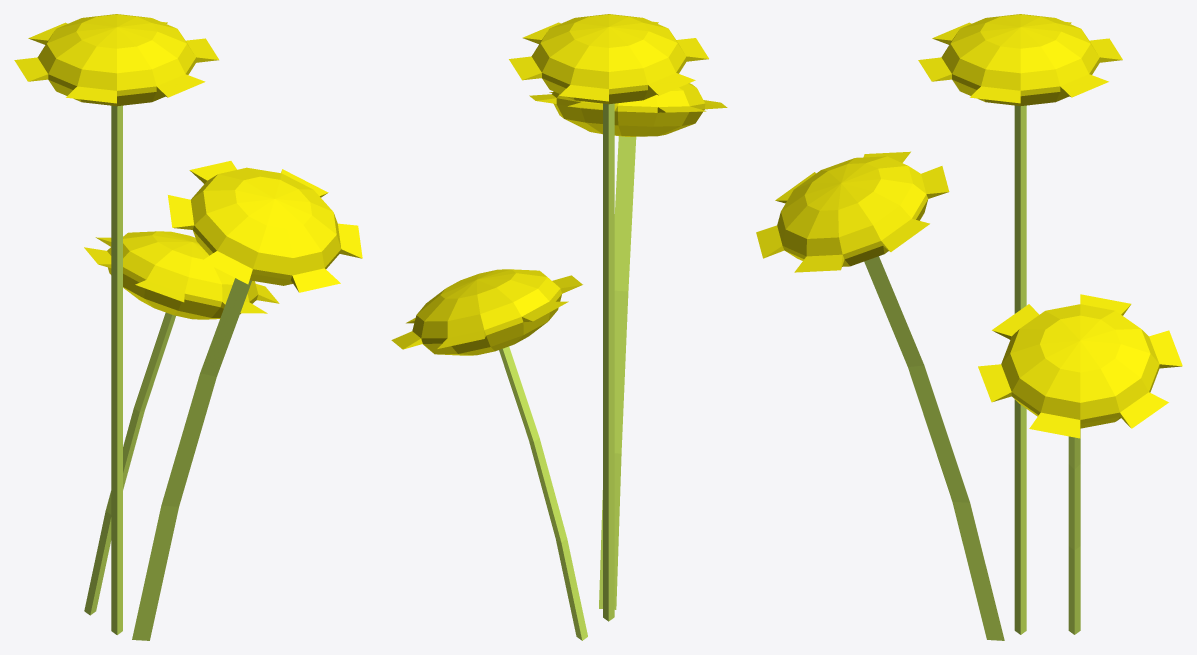
File: flower_yellow.fbx
3 views of the same model, side by side, from view 1: azimuth 30°, elevation 25°; view 2: azimuth 150°, elevation 25°; view 3: azimuth 270°, elevation 25° (orthographic). The views are drawn at different scales.
Visible parts, largest first — view 1: flower_yellow; view 2: flower_yellow; view 3: flower_yellow.
Part boxes in pixels (x1,y1,x2,y2): flower_yellow: (14, 14, 362, 640); flower_yellow: (391, 14, 727, 640); flower_yellow: (756, 14, 1182, 640).
Size of the model in its own units: 0.0996 by 0.2155 by 0.1379.
